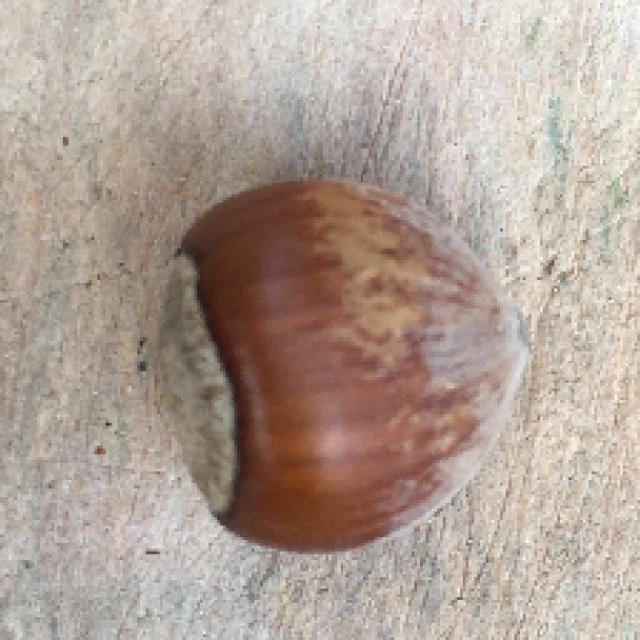QualityHazelnut: (152, 177, 534, 552)
